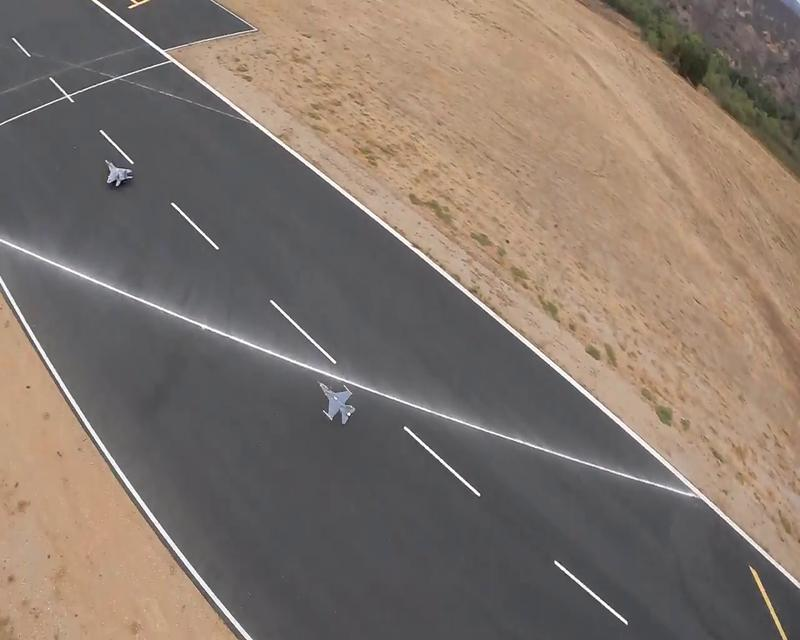UAV: (318, 382, 356, 426), (106, 160, 134, 188)
